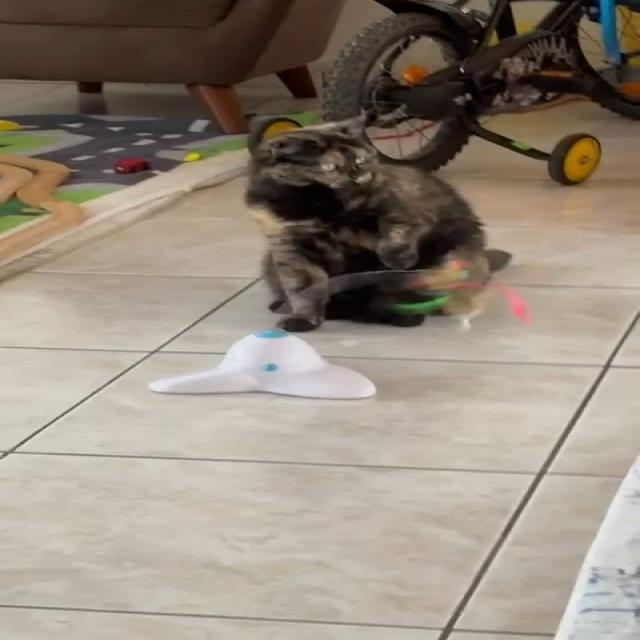authorized: (242, 110, 510, 332)
